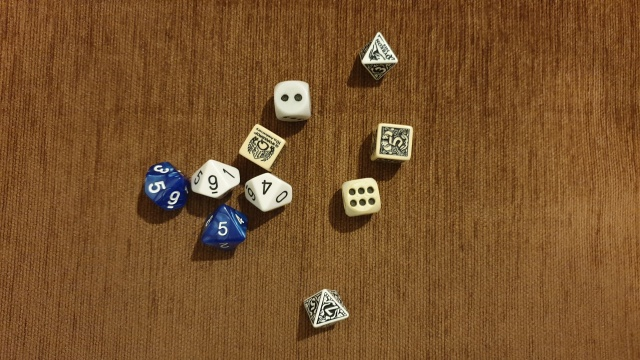d10-4: (241, 169, 297, 216)
d10-5: (137, 158, 191, 215), (194, 204, 253, 255)
d10-9: (187, 156, 243, 200)
d6-2: (270, 78, 314, 124)
d6-6: (337, 175, 386, 221)
d6p-5: (365, 120, 416, 165)
d6p-6: (234, 121, 286, 172)
d8p-1: (353, 29, 403, 85)
d8p-7: (299, 283, 354, 333)
